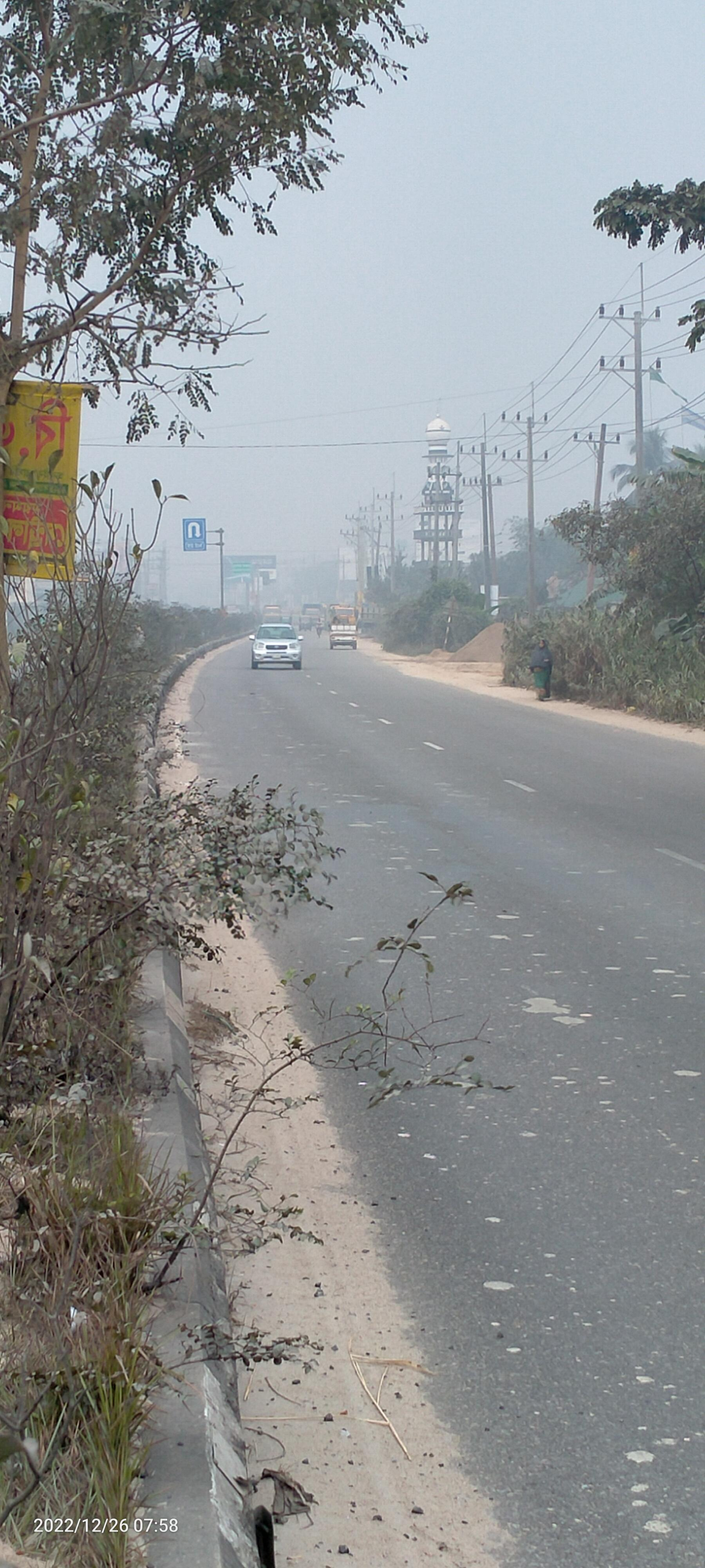Car: (244, 614, 312, 678)
Truck: (326, 611, 363, 660)
